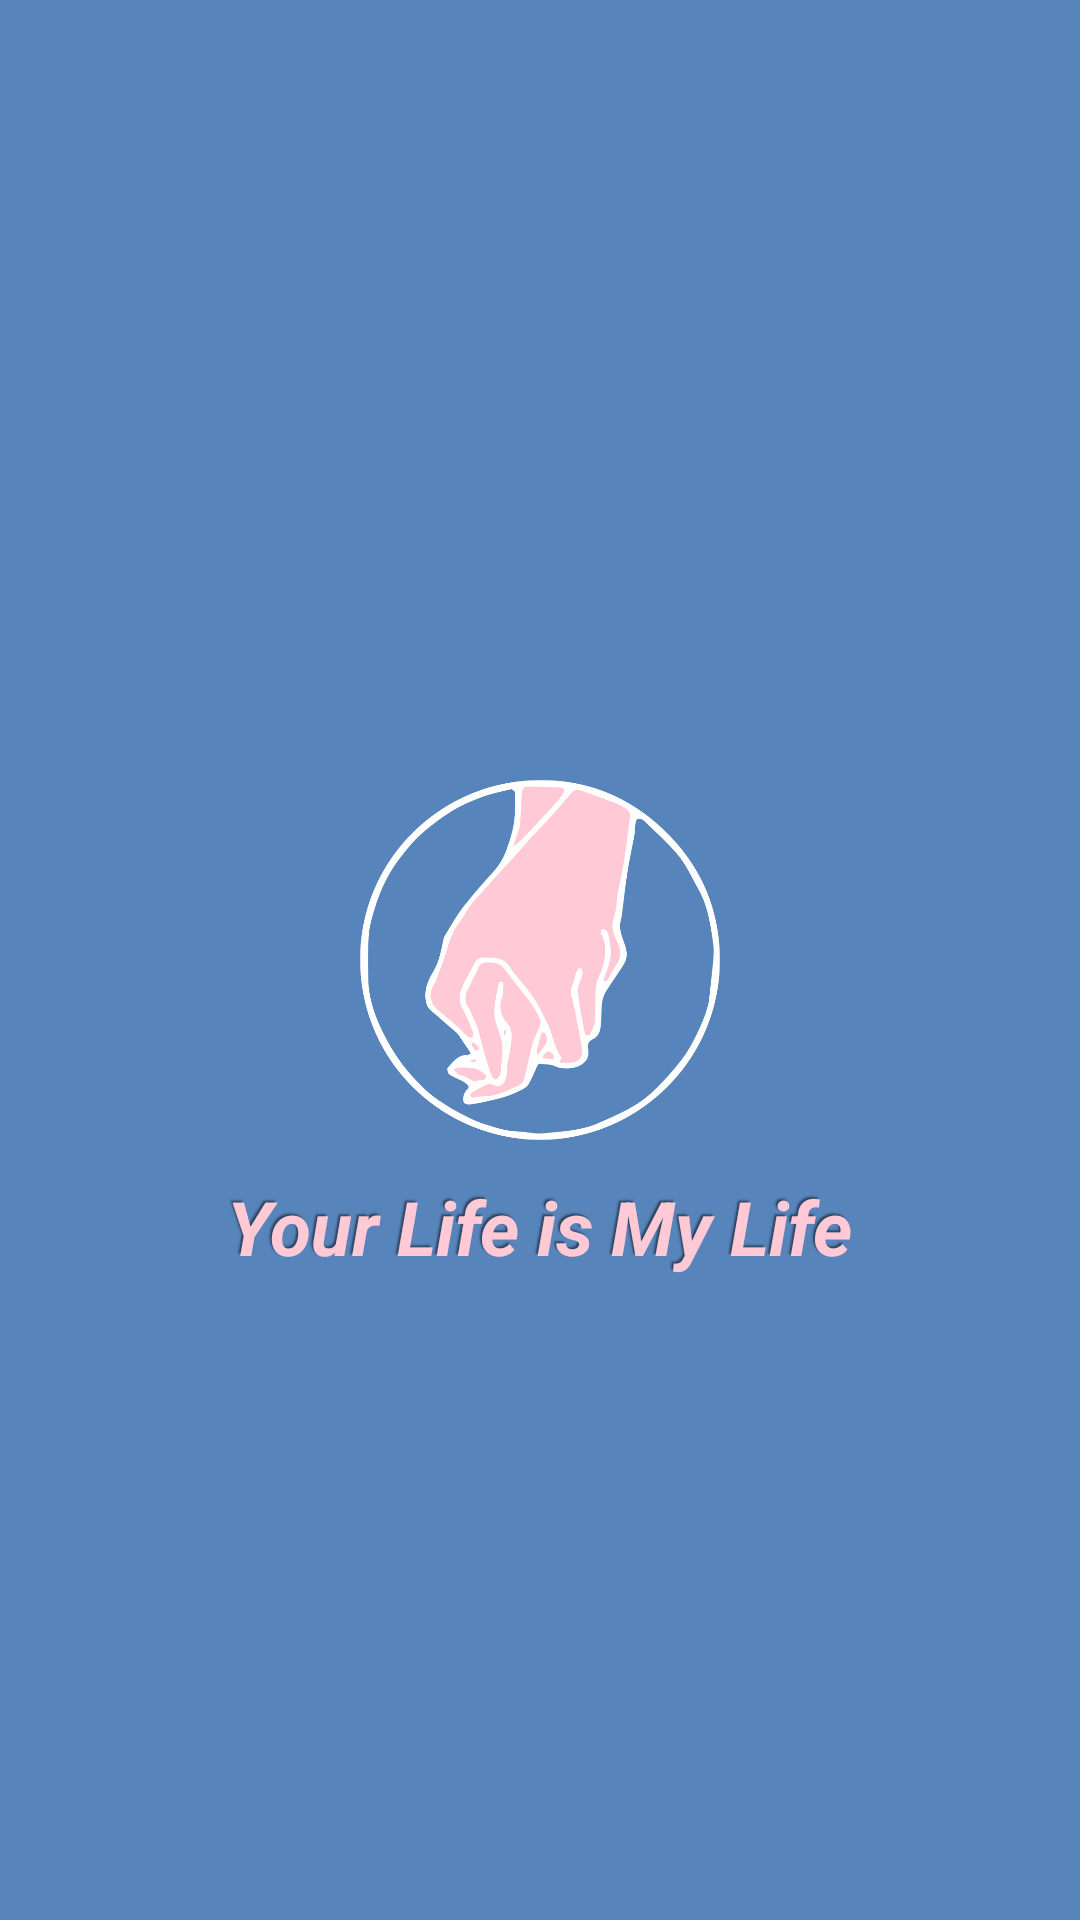

Icon click points for this 1080 × 1920 phone screenshot, format [x,y]:
hands tran: [540,960]
